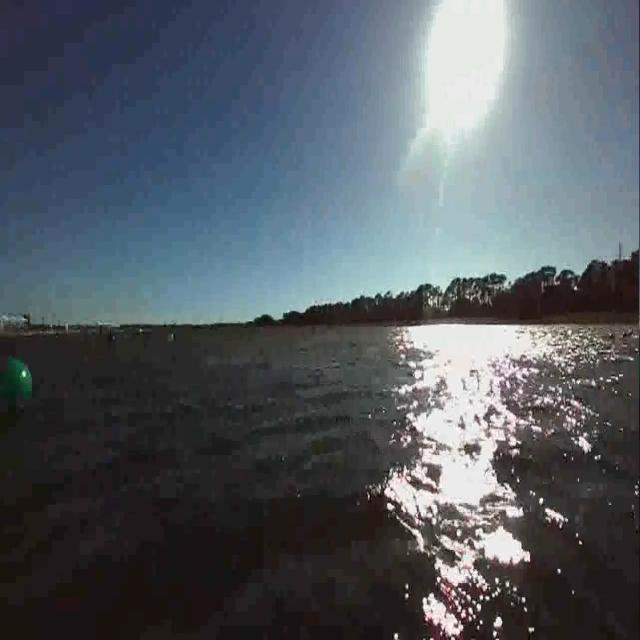green-buoy: (0, 352, 32, 429)
